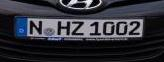0: (102, 21, 116, 36), (116, 21, 128, 36)
1: (89, 21, 102, 36)
2: (129, 20, 141, 36)
H: (57, 20, 71, 36)
N: (29, 19, 43, 35)
Z: (71, 21, 85, 36)
